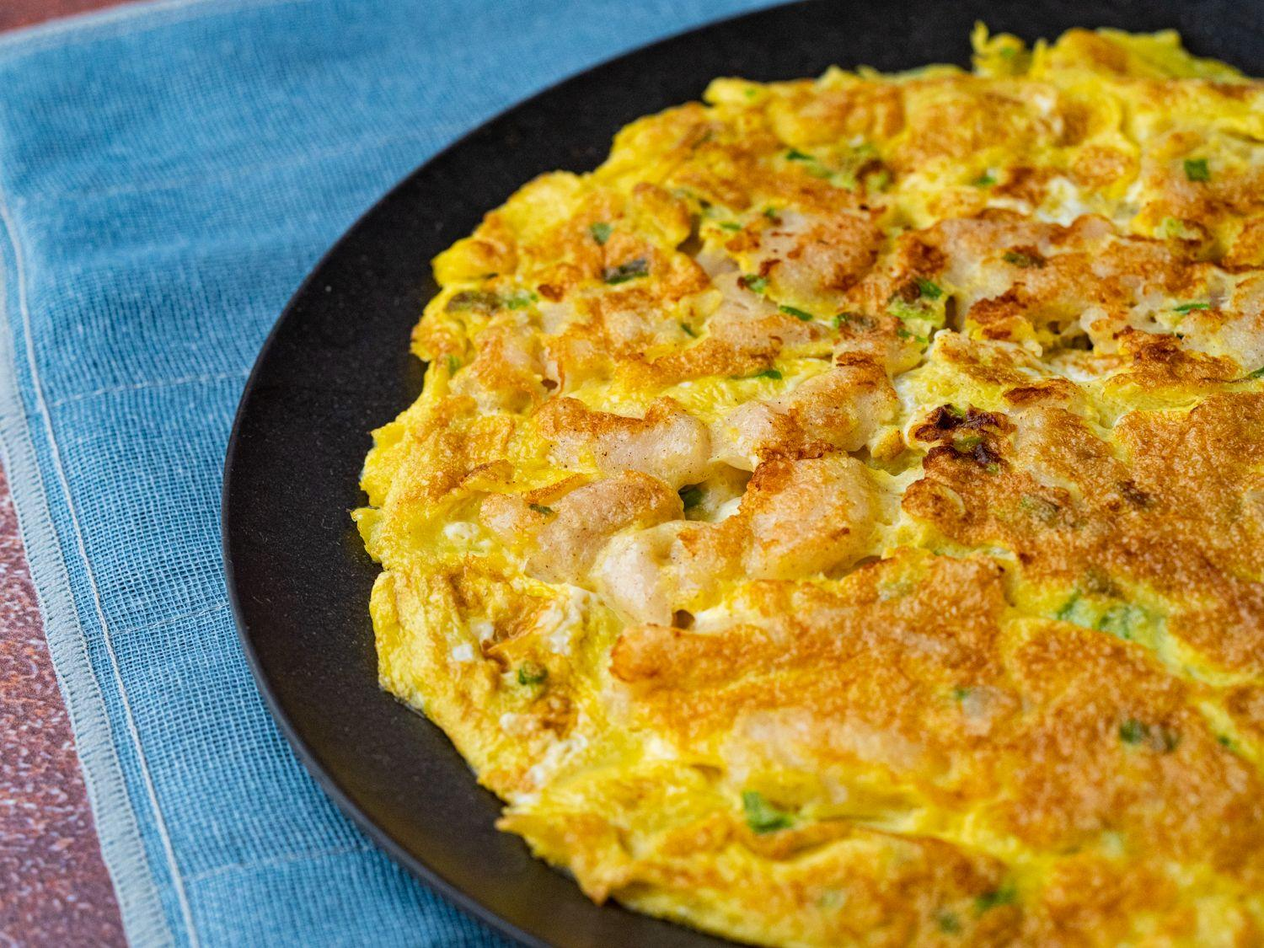omelette: (473, 127, 1264, 948)
